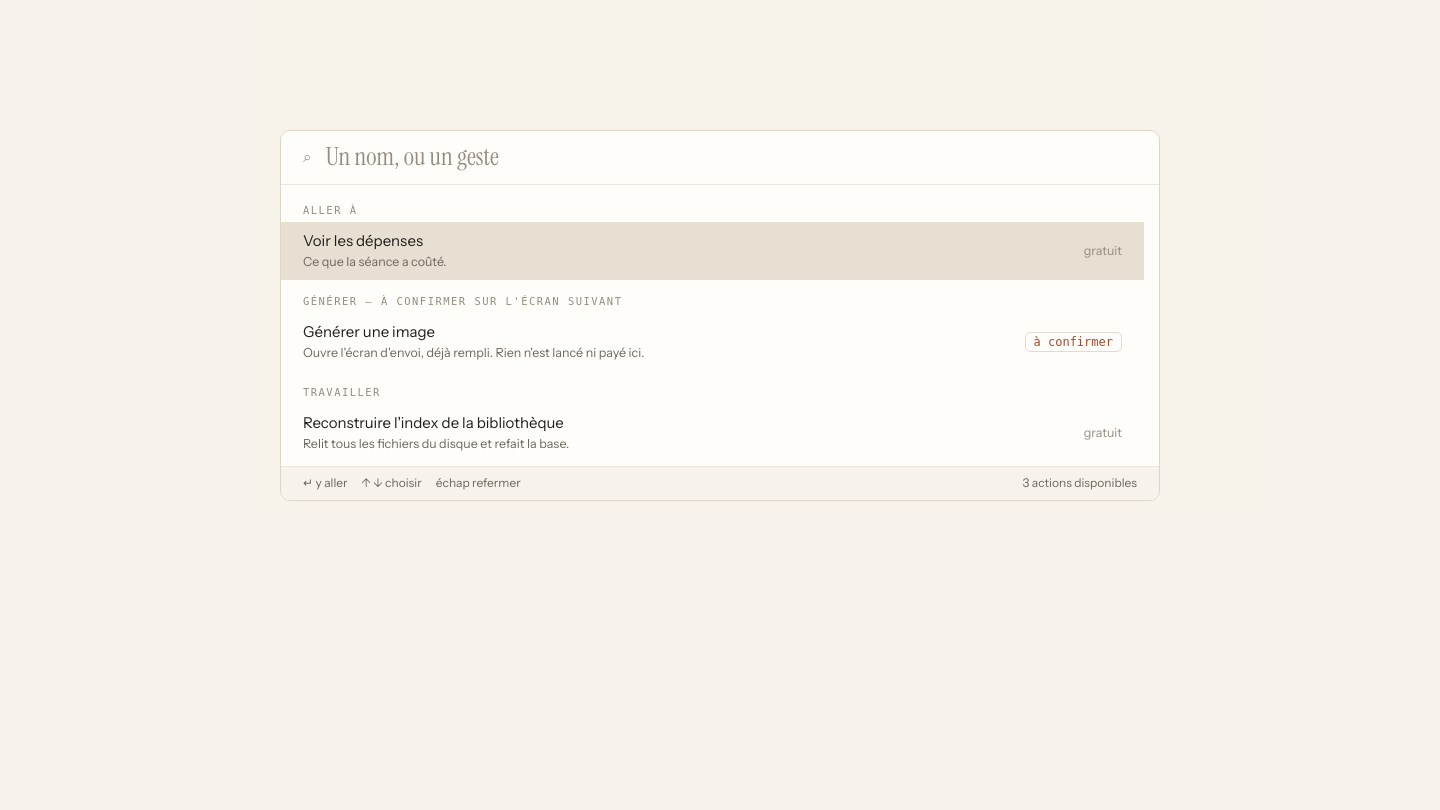
Test: elle cherche des noms, pas des prompts › ce qu'on tape filtre aussi les gestes
In the field named "Chercher un sujet ou un geste": (731, 157) x1=325 y1=140 x2=1137 y2=174, type "index"
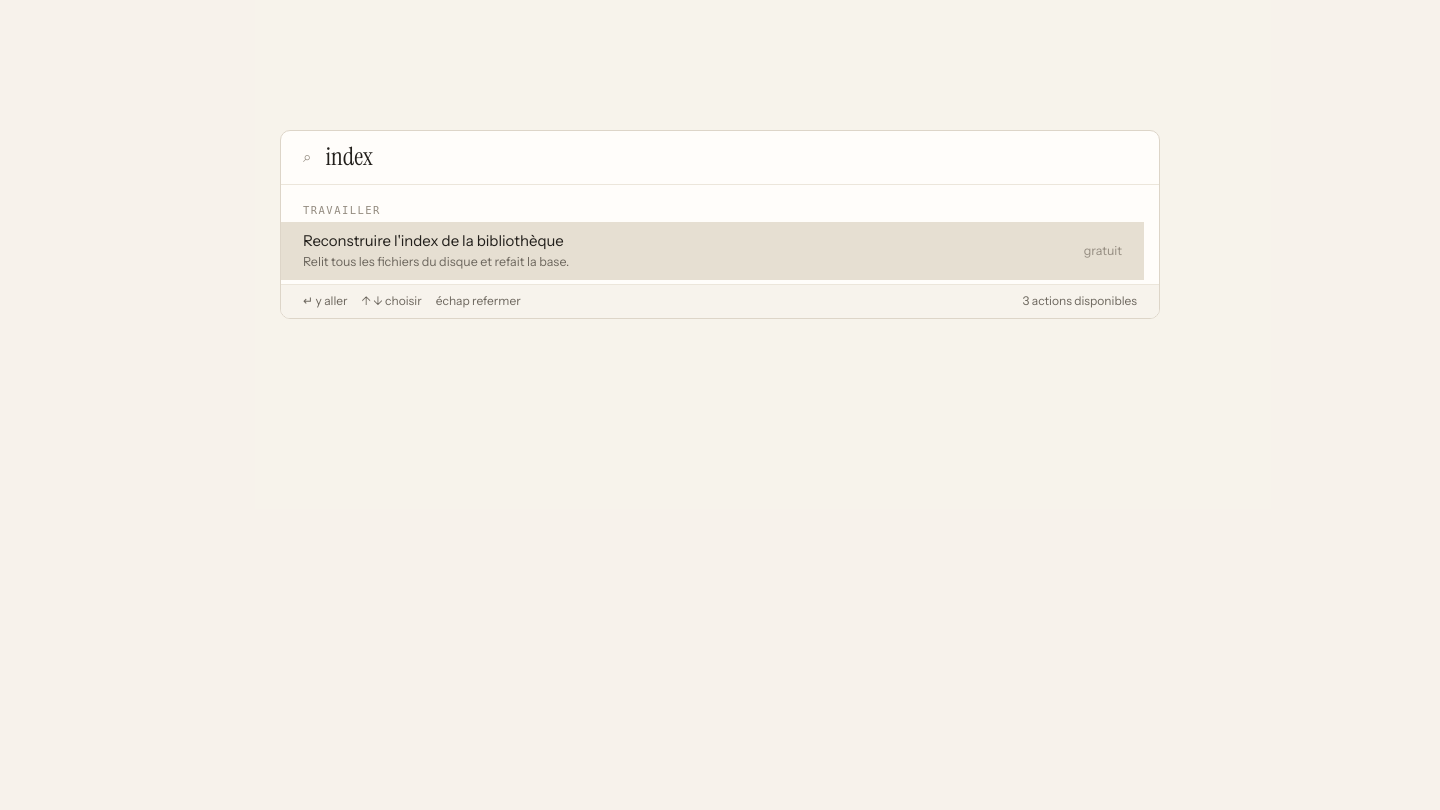
Check: the button "Reconstruire l'index" is shown, box x1=281 y1=222 x2=1144 y2=280
Check: the button "Générer une image" is gone
